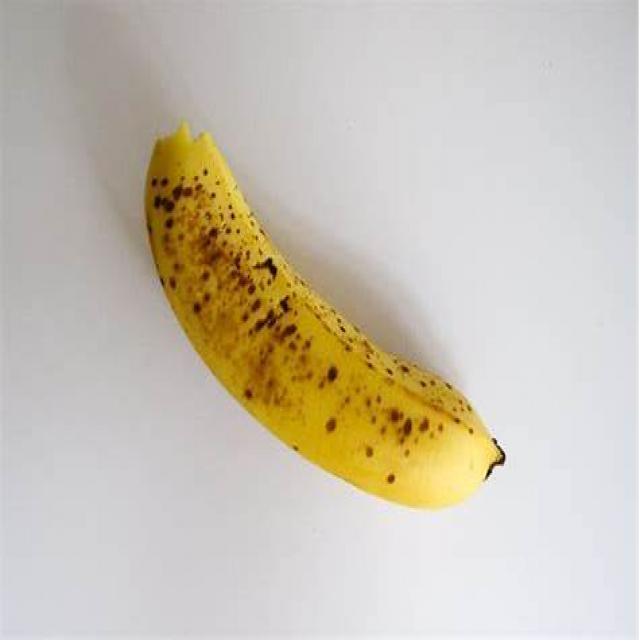Banana: (132, 124, 509, 515)
